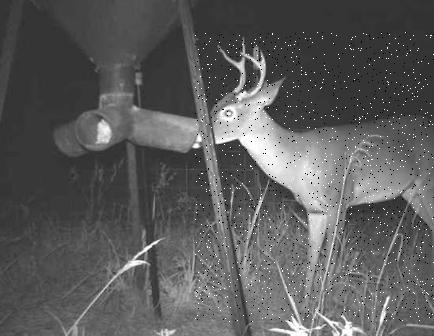Deer: (195, 32, 434, 322)
